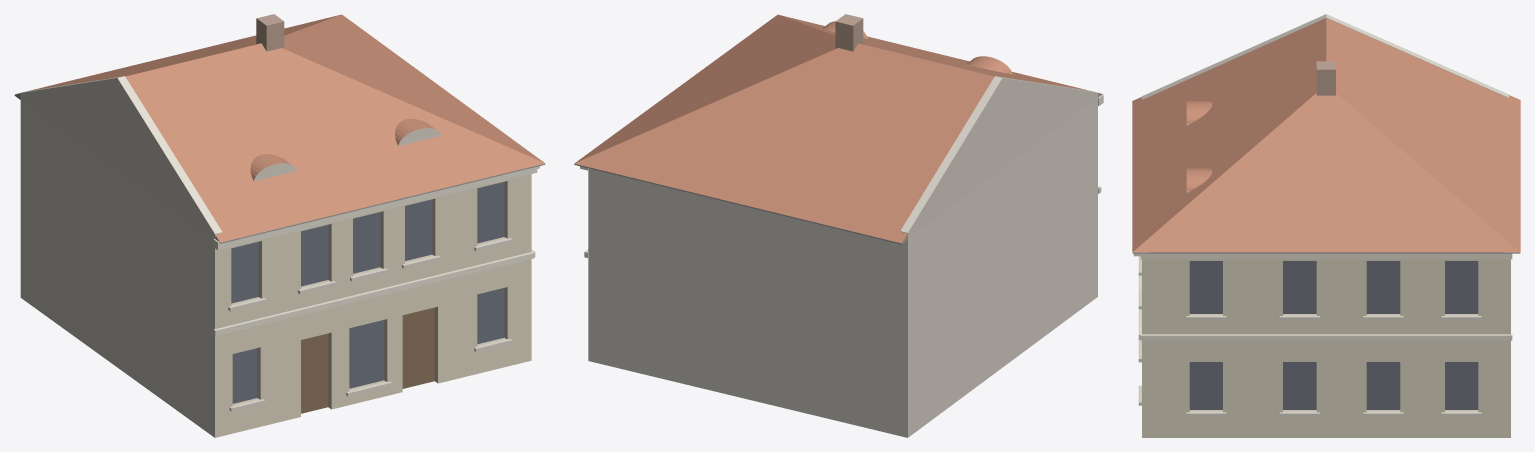
3 renders of one model, left to right at view 1: azimuth 30°, elevation 25°; view 2: azimuth 150°, elevation 25°; view 3: azimuth 270°, elevation 25°, orthographic. The views are drawn at different scales.
Parts seen in each view (by area): view 1: CP_699_Masonry, CP_699_Roof, CP_699_Roof_Gable_L_gable, CP_699_Cornice_main_string_0, CP_699_Cornice_main_eave_0, CP_699_Chimney_0, CP_699_Dormer_e1, CP_699_Dormer_e2, CP_699_Roof_EaveClosure_0; view 2: CP_699_Masonry, CP_699_Roof, CP_699_Roof_Gable_L_gable, CP_699_Chimney_0, CP_699_Roof_EaveClosure_2; view 3: CP_699_Roof, CP_699_Masonry, CP_699_Cornice_right_r_string_0, CP_699_Cornice_right_r_eave_0, CP_699_Roof_Gable_L_gable, CP_699_Roof_EaveClosure_1, CP_699_Chimney_0, CP_699_Dormer_e2, CP_699_Dormer_e1.
Part boxes in pixels (x1,y1,x2,y2): CP_699_Masonry: (20, 99, 531, 437); CP_699_Roof: (17, 14, 544, 242); CP_699_Roof_Gable_L_gable: (20, 76, 222, 238); CP_699_Cornice_main_string_0: (213, 252, 534, 335); CP_699_Cornice_main_eave_0: (213, 167, 537, 250); CP_699_Chimney_0: (256, 14, 284, 51); CP_699_Dormer_e1: (250, 154, 296, 181); CP_699_Dormer_e2: (395, 118, 440, 145); CP_699_Roof_EaveClosure_0: (215, 164, 545, 243); CP_699_Masonry: (588, 98, 1097, 437); CP_699_Roof: (574, 14, 1100, 243); CP_699_Roof_Gable_L_gable: (900, 76, 1097, 238); CP_699_Chimney_0: (835, 14, 863, 51); CP_699_Roof_EaveClosure_2: (574, 164, 907, 244); CP_699_Roof: (1132, 18, 1520, 252); CP_699_Masonry: (1142, 259, 1510, 437); CP_699_Cornice_right_r_string_0: (1140, 334, 1512, 340); CP_699_Cornice_right_r_eave_0: (1140, 253, 1512, 259); CP_699_Roof_Gable_L_gable: (1142, 14, 1508, 99); CP_699_Roof_EaveClosure_1: (1149, 252, 1503, 253); CP_699_Chimney_0: (1316, 61, 1335, 95); CP_699_Dormer_e2: (1186, 168, 1212, 192); CP_699_Dormer_e1: (1186, 101, 1212, 125).
Bounding box in the file's own units: 12.92 × 11.7 × 13.91.
